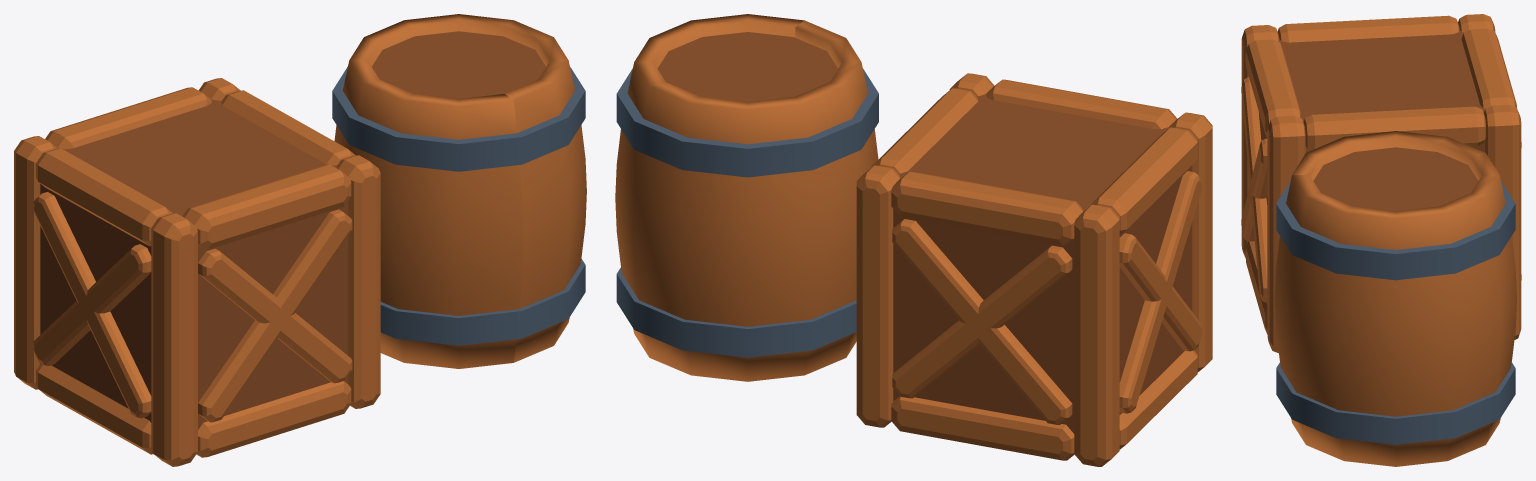
The model's file is DrownedVillage_Crate_Barrel.glb.
3 views of the same model, side by side, from view 1: azimuth 30°, elevation 25°; view 2: azimuth 150°, elevation 25°; view 3: azimuth 270°, elevation 25° (orthographic). The views are drawn at different scales.
Visible parts, largest first — view 1: barrel_body_01, crate_body_01, crate_edge_03, barrel_hoop_02, barrel_lid_01, crate_edge_04, crate_edge_11, crate_brace_01, barrel_hoop_01, crate_edge_01, crate_brace_07, crate_edge_10 (+7 smaller); view 2: barrel_body_01, crate_body_01, crate_edge_01, barrel_hoop_02, crate_edge_02, barrel_lid_01, crate_edge_09, barrel_hoop_01, crate_brace_03, crate_edge_05, crate_brace_04, crate_brace_08 (+7 smaller); view 3: barrel_body_01, crate_body_01, barrel_hoop_02, barrel_lid_01, barrel_hoop_01, crate_edge_12, crate_edge_04, crate_edge_02, crate_edge_10, crate_edge_11, crate_edge_09, crate_brace_02 (+4 smaller).
Boxes of the visible parts, x1=… form: barrel_body_01: x1=334, y1=14, x2=586, y2=368; crate_body_01: x1=40, y1=99, x2=348, y2=429; crate_edge_03: x1=151, y1=213, x2=197, y2=466; barrel_hoop_02: x1=332, y1=66, x2=585, y2=171; barrel_lid_01: x1=372, y1=31, x2=545, y2=98; crate_edge_04: x1=336, y1=155, x2=380, y2=408; crate_edge_11: x1=183, y1=164, x2=351, y2=250; crate_brace_01: x1=198, y1=209, x2=352, y2=422; barrel_hoop_01: x1=380, y1=258, x2=585, y2=345; crate_edge_01: x1=14, y1=136, x2=57, y2=389; crate_brace_07: x1=33, y1=192, x2=151, y2=418; crate_edge_10: x1=36, y1=148, x2=172, y2=246; barrel_body_01: x1=615, y1=14, x2=878, y2=381; crate_body_01: x1=893, y1=90, x2=1192, y2=433; crate_edge_01: x1=1074, y1=204, x2=1119, y2=466; barrel_hoop_02: x1=616, y1=68, x2=878, y2=177; crate_edge_02: x1=856, y1=165, x2=899, y2=427; barrel_lid_01: x1=657, y1=32, x2=837, y2=101; crate_edge_09: x1=891, y1=171, x2=1082, y2=245; barrel_hoop_01: x1=616, y1=267, x2=856, y2=357; crate_brace_03: x1=892, y1=219, x2=1072, y2=424; crate_edge_05: x1=891, y1=396, x2=1074, y2=460; crate_brace_04: x1=892, y1=245, x2=1072, y2=398; crate_brace_08: x1=1119, y1=171, x2=1201, y2=413; barrel_body_01: x1=1274, y1=131, x2=1516, y2=466; crate_body_01: x1=1258, y1=30, x2=1485, y2=204; barrel_hoop_02: x1=1276, y1=180, x2=1515, y2=280; barrel_lid_01: x1=1313, y1=147, x2=1478, y2=211; barrel_hoop_01: x1=1276, y1=362, x2=1515, y2=444; crate_edge_12: x1=1303, y1=106, x2=1485, y2=151; crate_edge_04: x1=1267, y1=115, x2=1306, y2=353; crate_edge_02: x1=1484, y1=104, x2=1521, y2=339; crate_edge_10: x1=1277, y1=15, x2=1459, y2=42; crate_edge_11: x1=1245, y1=39, x2=1301, y2=137; crate_edge_09: x1=1461, y1=28, x2=1517, y2=108; crate_brace_02: x1=1241, y1=77, x2=1267, y2=302.
Bounding box in the file's own units: 1.93 × 0.95 × 0.9715.
